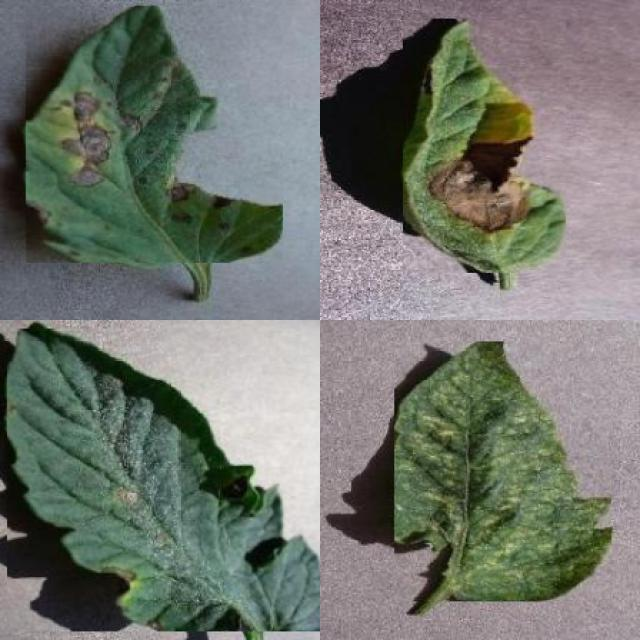Early Blight: (7, 328, 320, 632), (26, 5, 283, 264), (404, 18, 566, 273)
Spider Mites: (394, 342, 612, 602)
